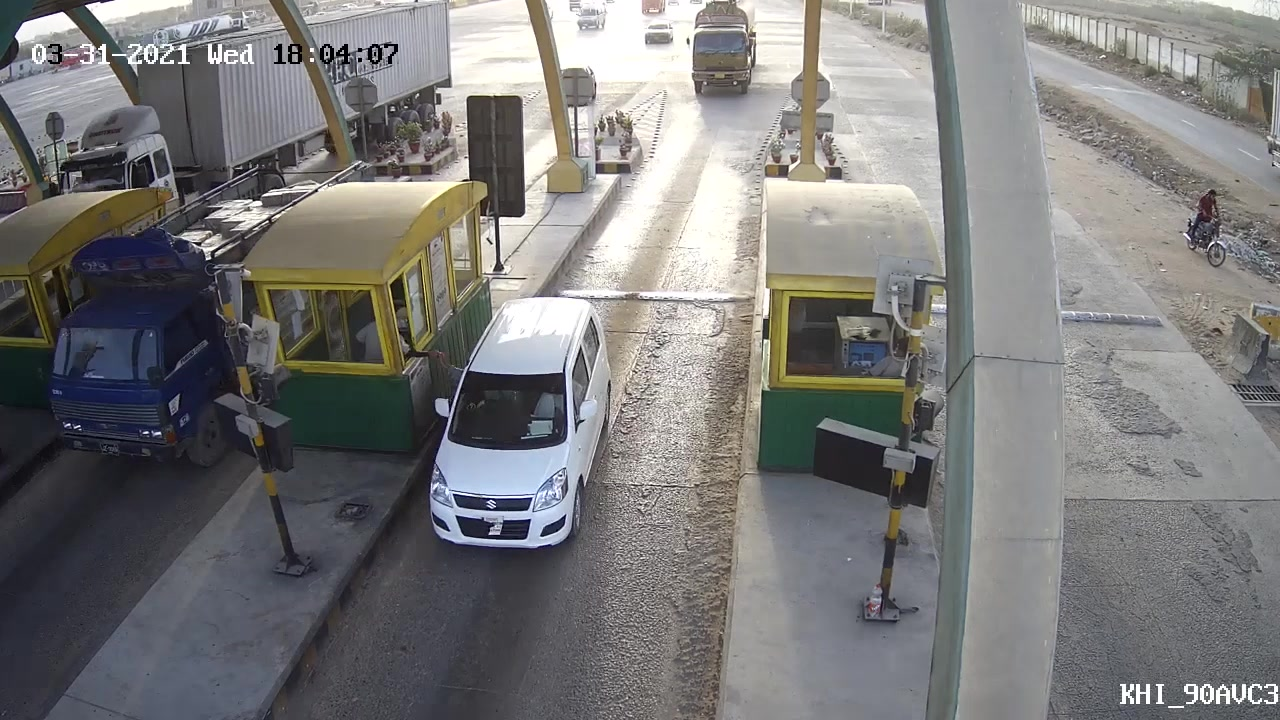F1: (411, 291, 621, 555)
